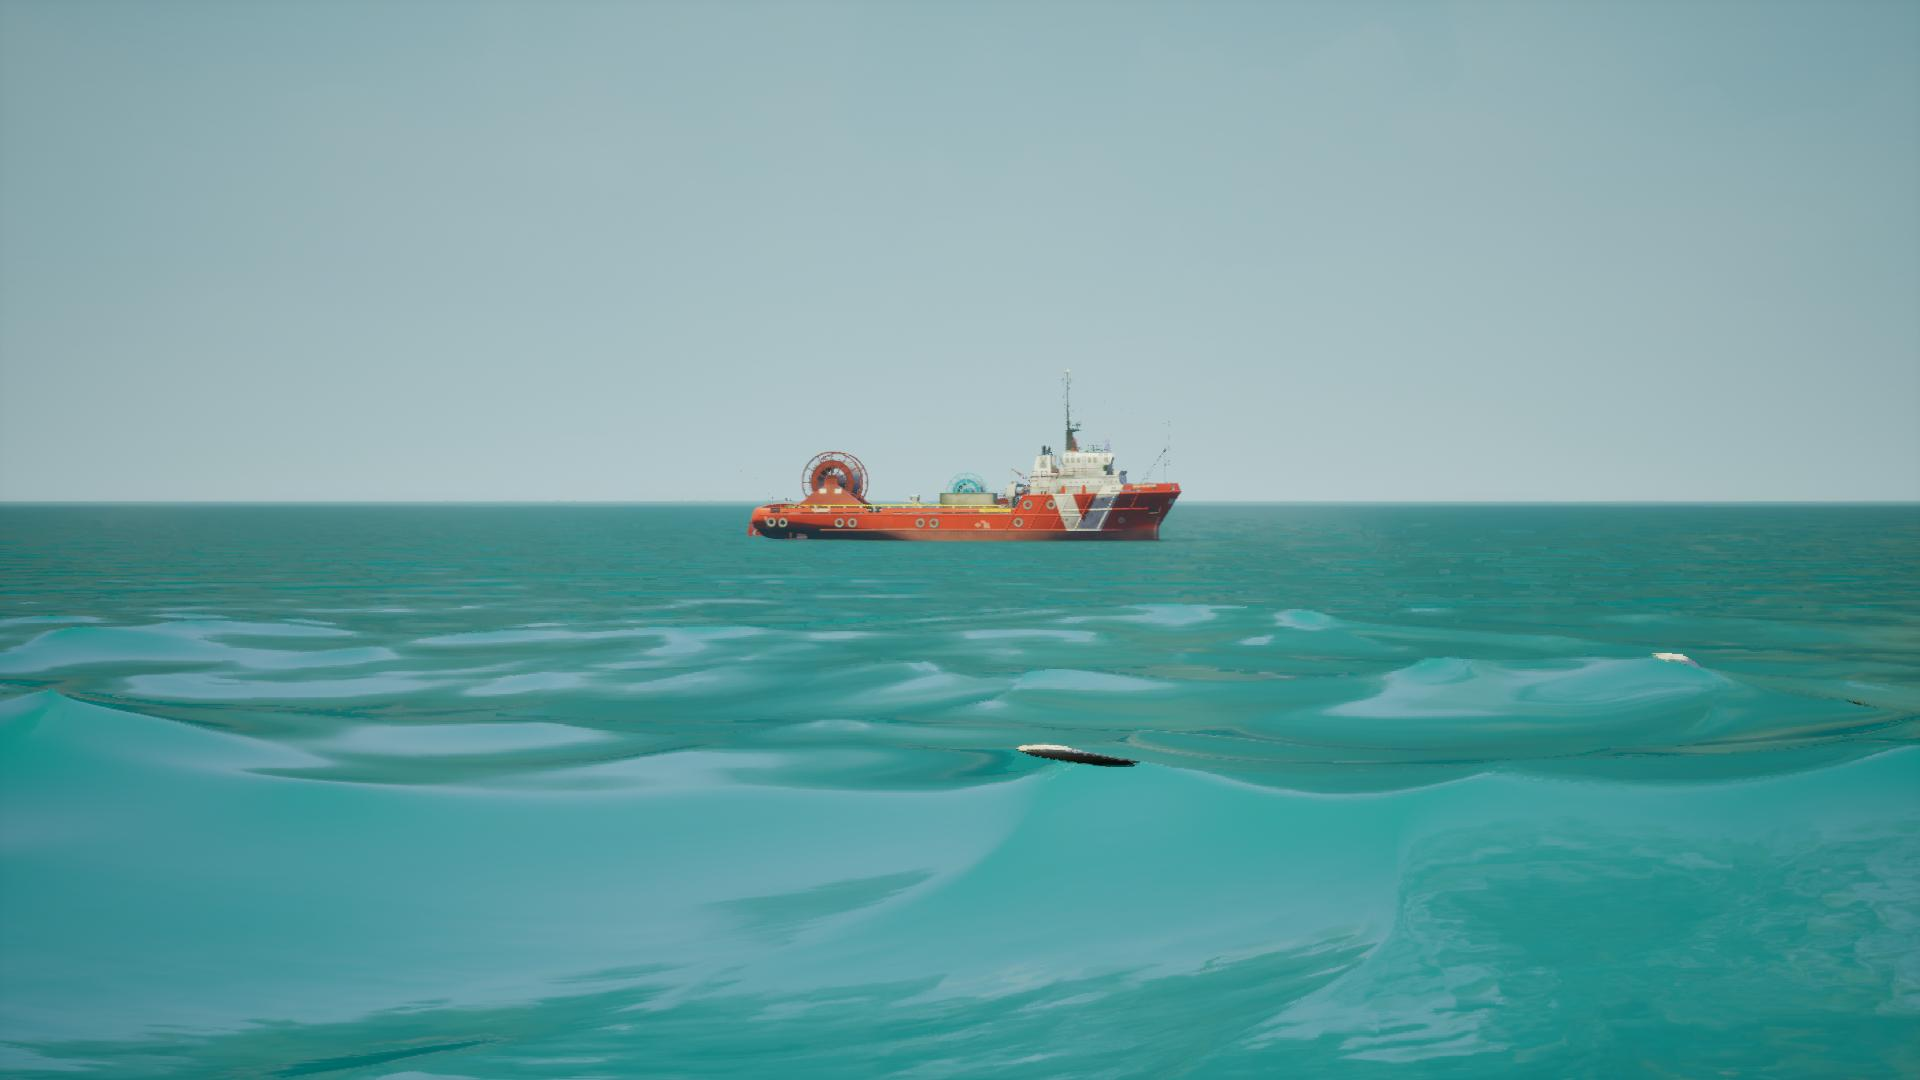Tug Boat: (746, 368, 1185, 546)
